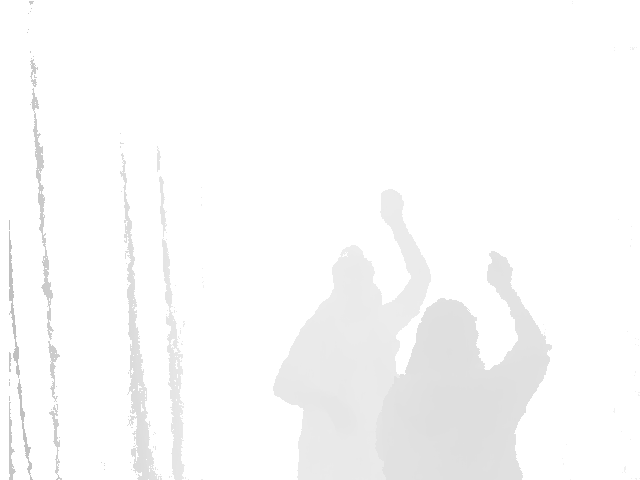hand: (485, 250, 514, 287), (379, 187, 403, 222)
head: (413, 298, 477, 365), (330, 245, 373, 295)
person: (270, 187, 431, 480), (373, 250, 552, 480)
